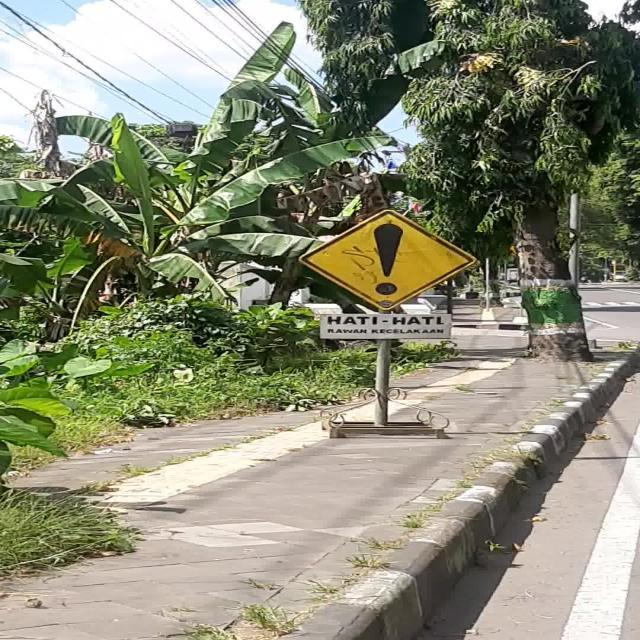Hati-Hati: (296, 208, 478, 311)
